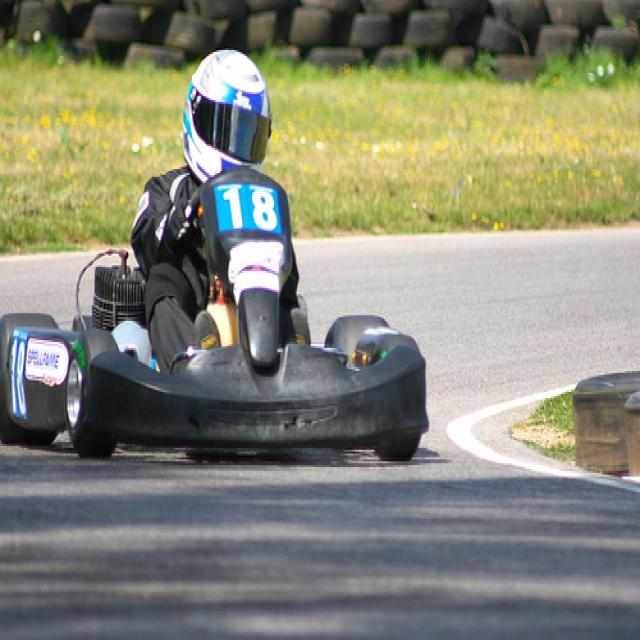person: (131, 49, 301, 376)
